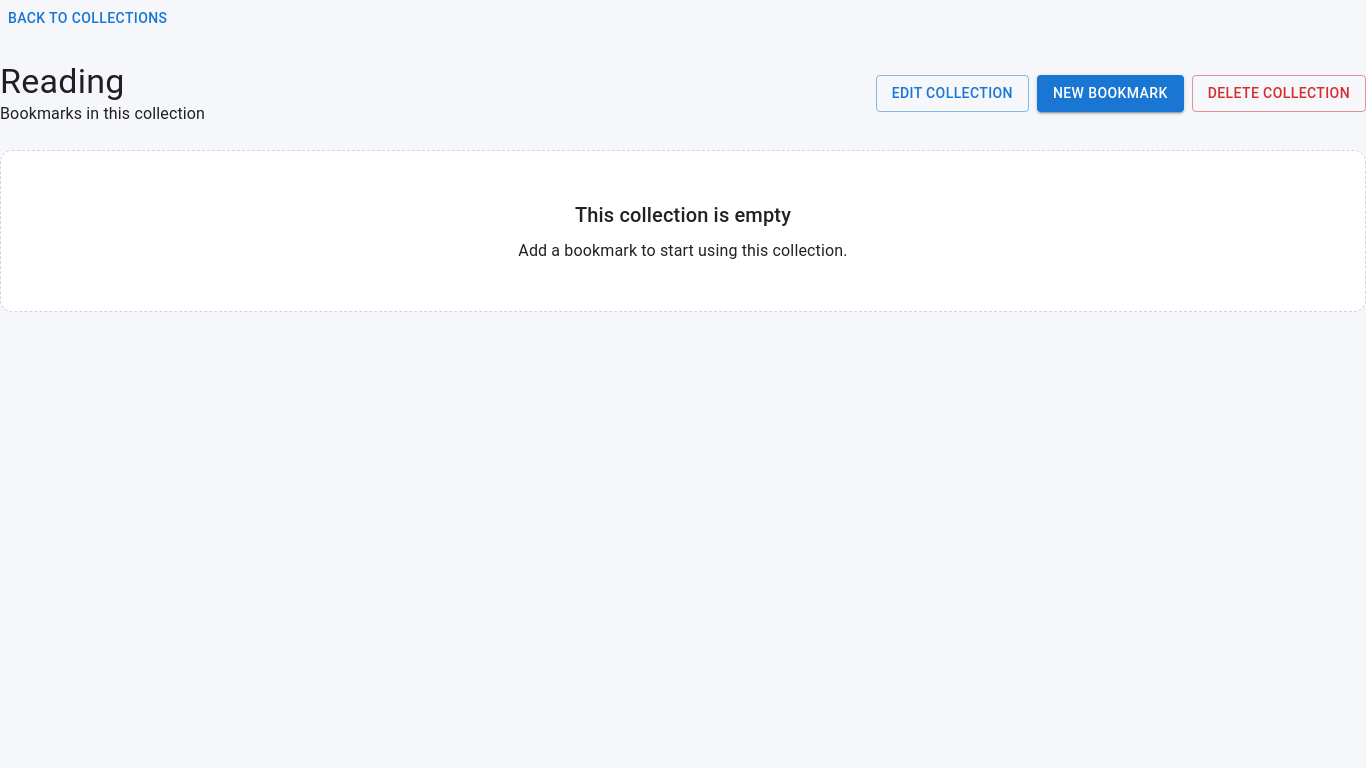
Test: detail edit flows › opens collection edit from the collection detail page
The image size is (1366, 768).
Click the button "Edit collection". click: point(952, 93)
box: [876,75,1029,112]
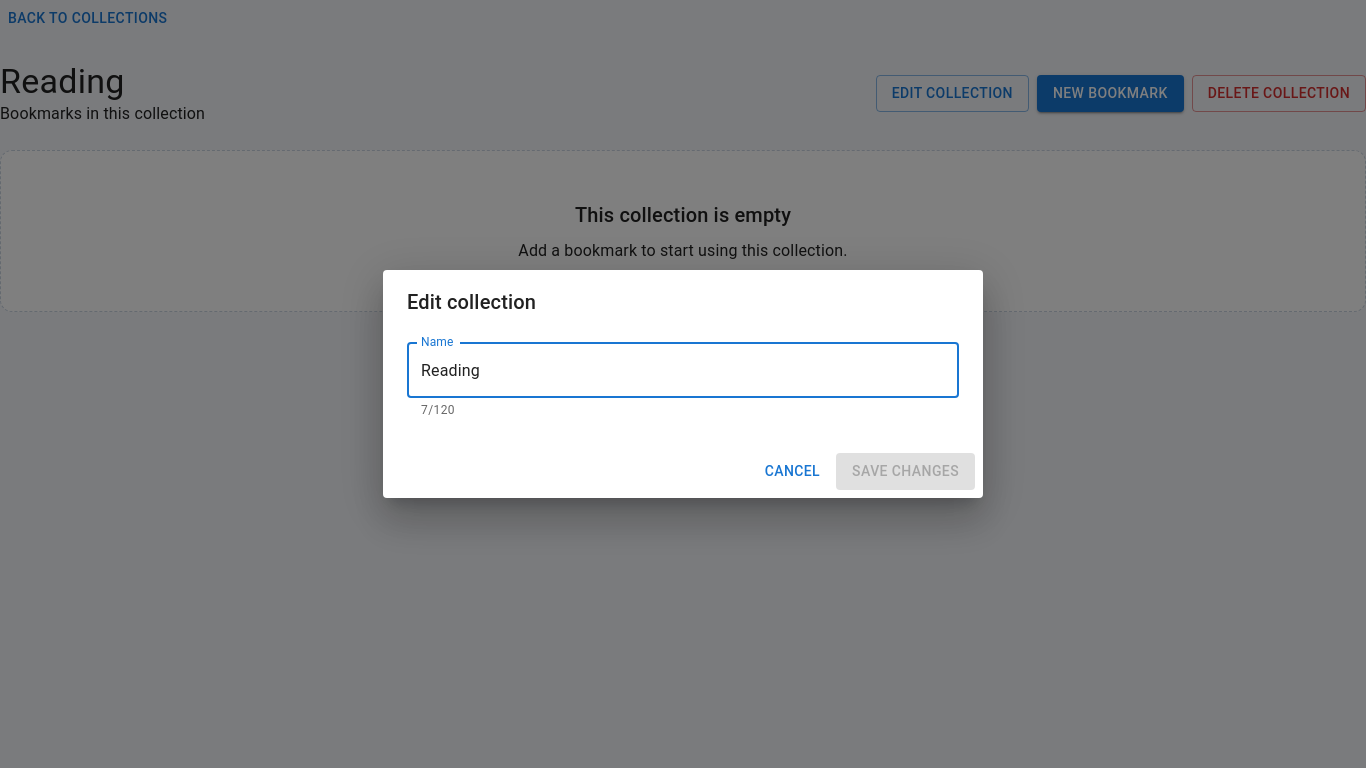
Result: the dialog shows "Edit collection" at [407,290,536,314]
Result: the field labelled "Name" holds "Reading" at [407,342,959,398]
